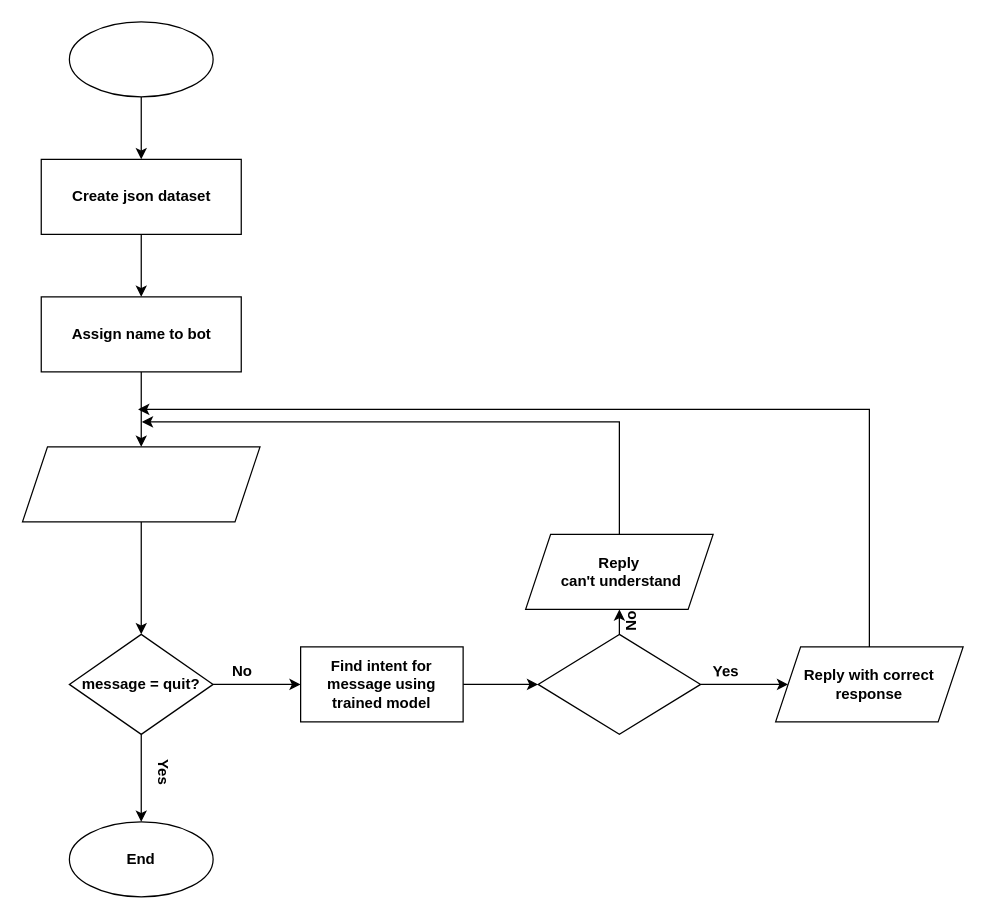
The diagram is 985 pixels wide and 919 high, and some of its shapes have lost their labels. The box of each missing label's shape, as (x1, y1, x2, y2) in pixels:
Input message: (21, 446, 260, 522)
intent is in dataset?: (537, 633, 701, 734)
Start: (68, 21, 213, 97)
